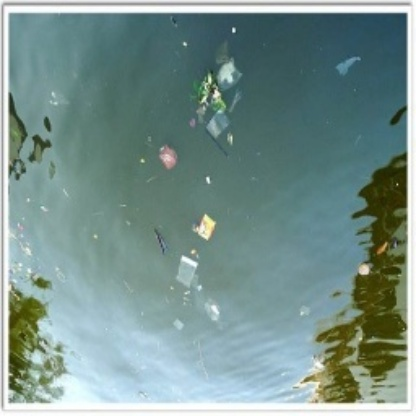plastic-bag: (172, 250, 202, 293)
